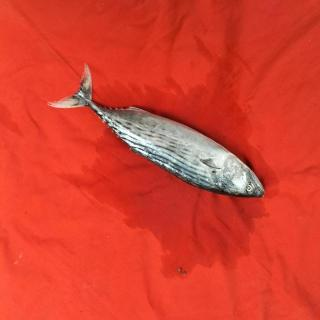Ikan: (49, 57, 274, 211)
